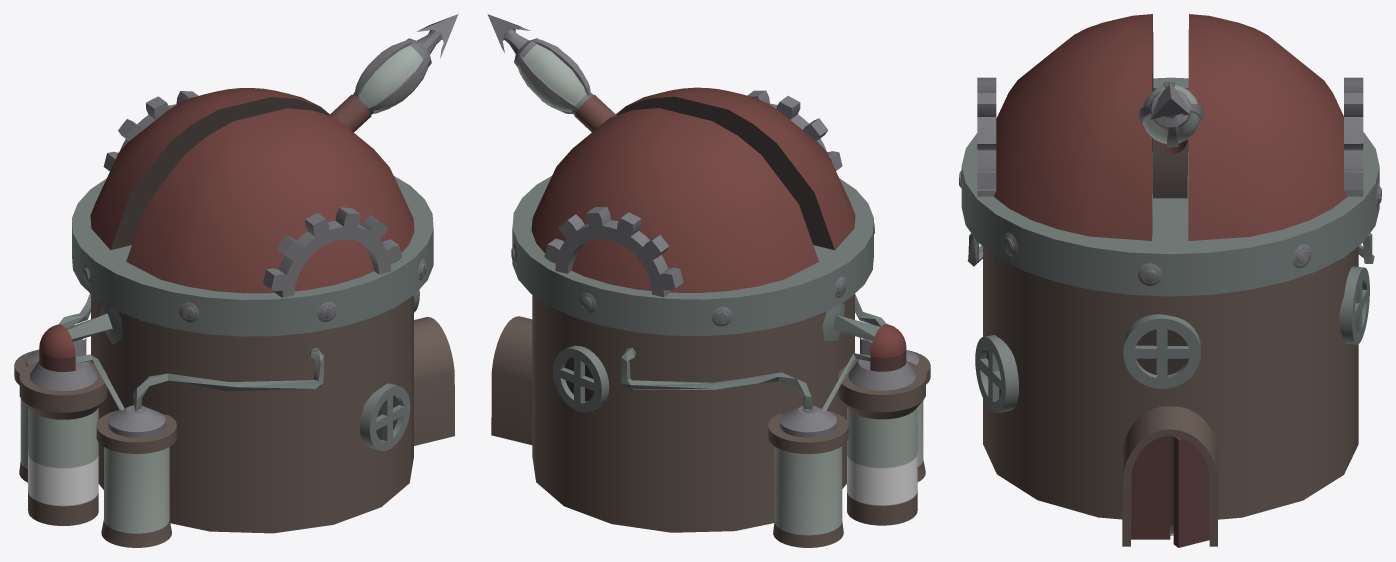
Rendered from cloudCollector 1.fbx.
The picture shows the model from 3 angles, left to right: view 1: azimuth 30°, elevation 25°; view 2: azimuth 150°, elevation 25°; view 3: azimuth 270°, elevation 25°; orthographic projection. The views are drawn at different scales.
Visible parts, largest first — view 1: watercollector.001; view 2: watercollector.001; view 3: watercollector.001.
Part boxes in pixels (left/top/right/bottom): watercollector.001: left=14, top=14, right=458, bottom=547; watercollector.001: left=487, top=14, right=930, bottom=547; watercollector.001: left=959, top=14, right=1381, bottom=547.
Bounding box in the file's own units: 1233 × 1090 × 904.
1 material, 1 textured.
